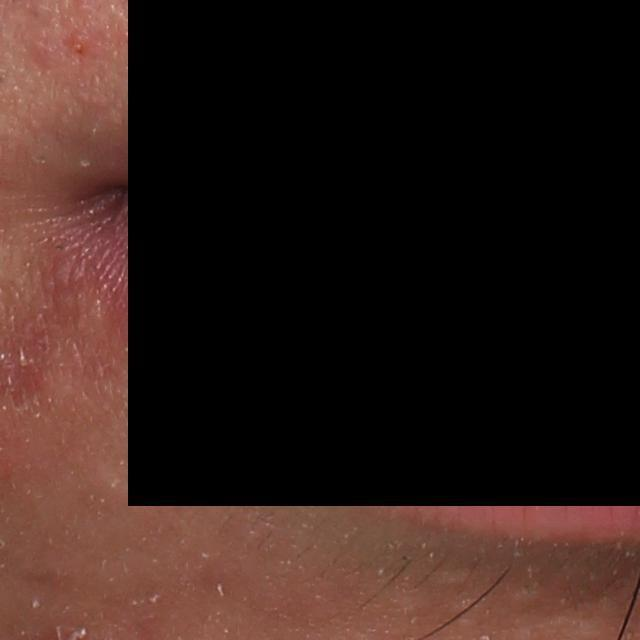hypertrophic_scar: (428, 568, 474, 589), (511, 581, 543, 604)
papule: (71, 37, 91, 60)
